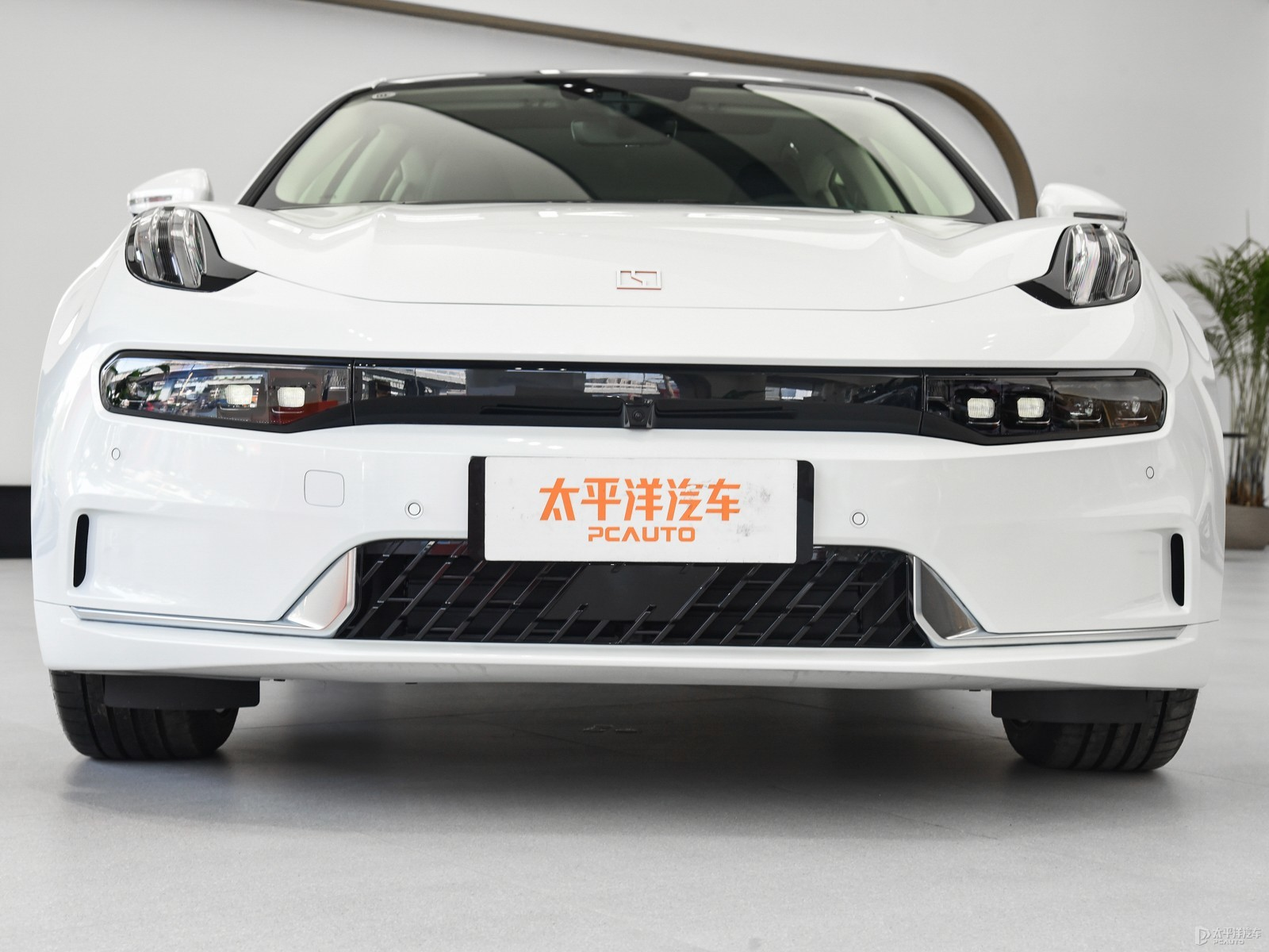ZEEKR: (617, 269, 661, 288)
